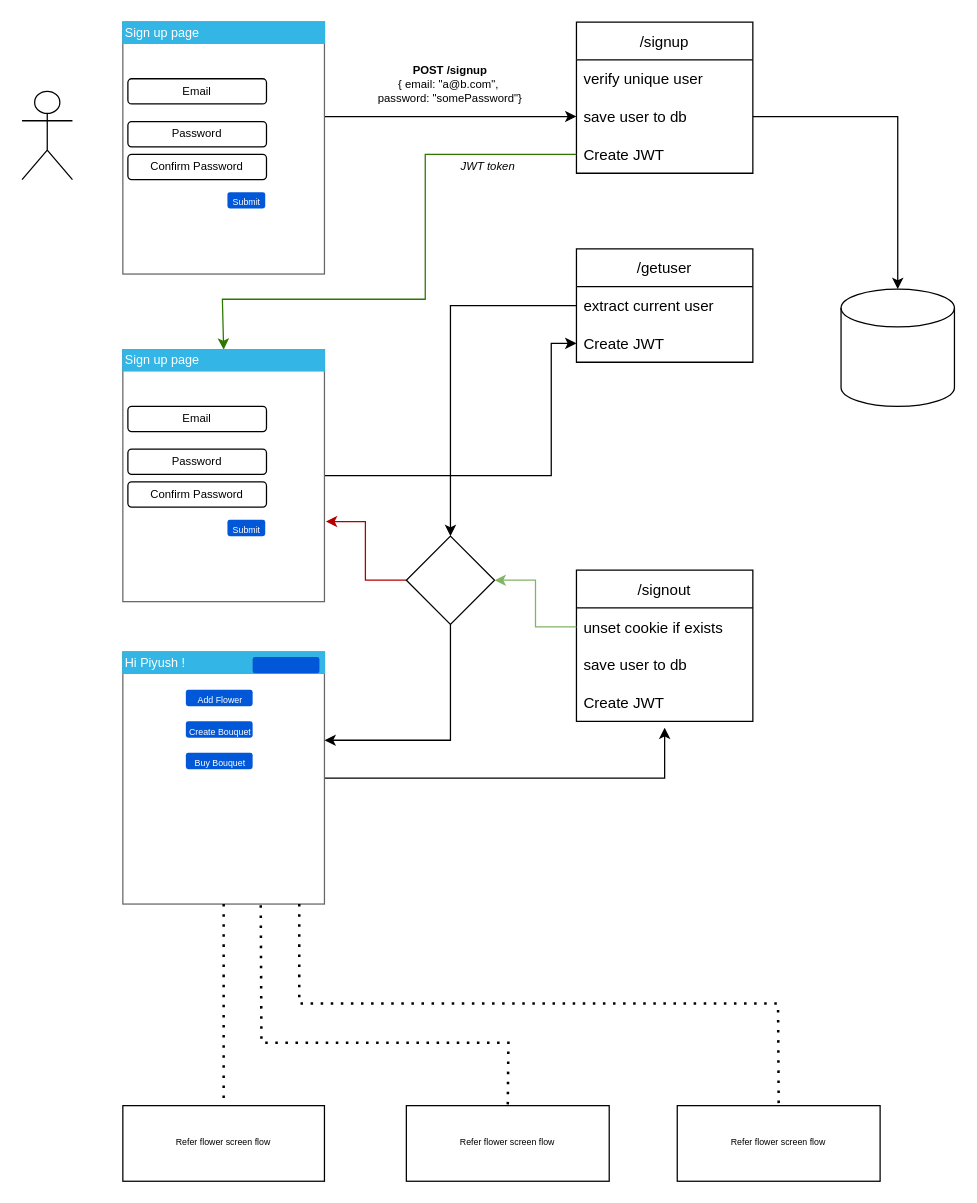
The diagram is 977 pixels wide and 1203 high, and some of its shapes have lost their labels. The shapes that lost their labels are listed below. From the top down, each one's centre as x and y in pixels, then its label:
point (46, 135): User
point (897, 347): Users DB { email, password }
point (450, 579): current user details exist ?
point (285, 664): Sign Out
